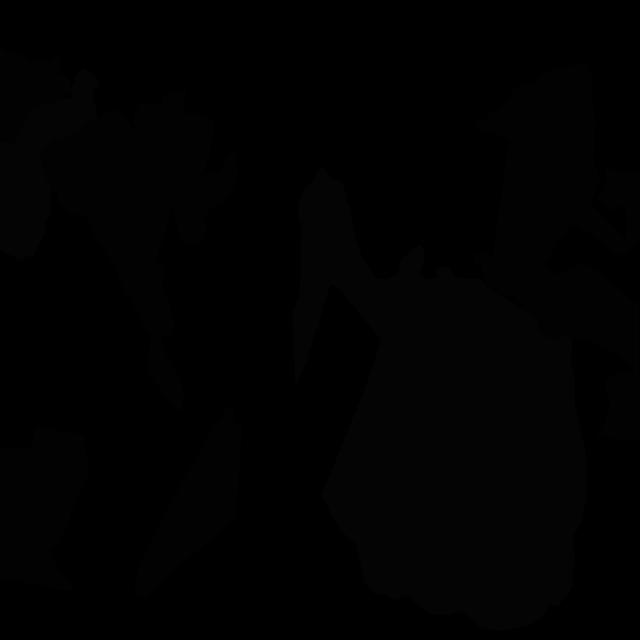cardboard: (39, 89, 237, 412), (473, 64, 640, 297), (512, 256, 640, 443), (135, 407, 242, 599), (0, 426, 89, 592), (0, 46, 71, 143)
soft_plastic: (292, 168, 587, 631), (0, 68, 100, 260)
